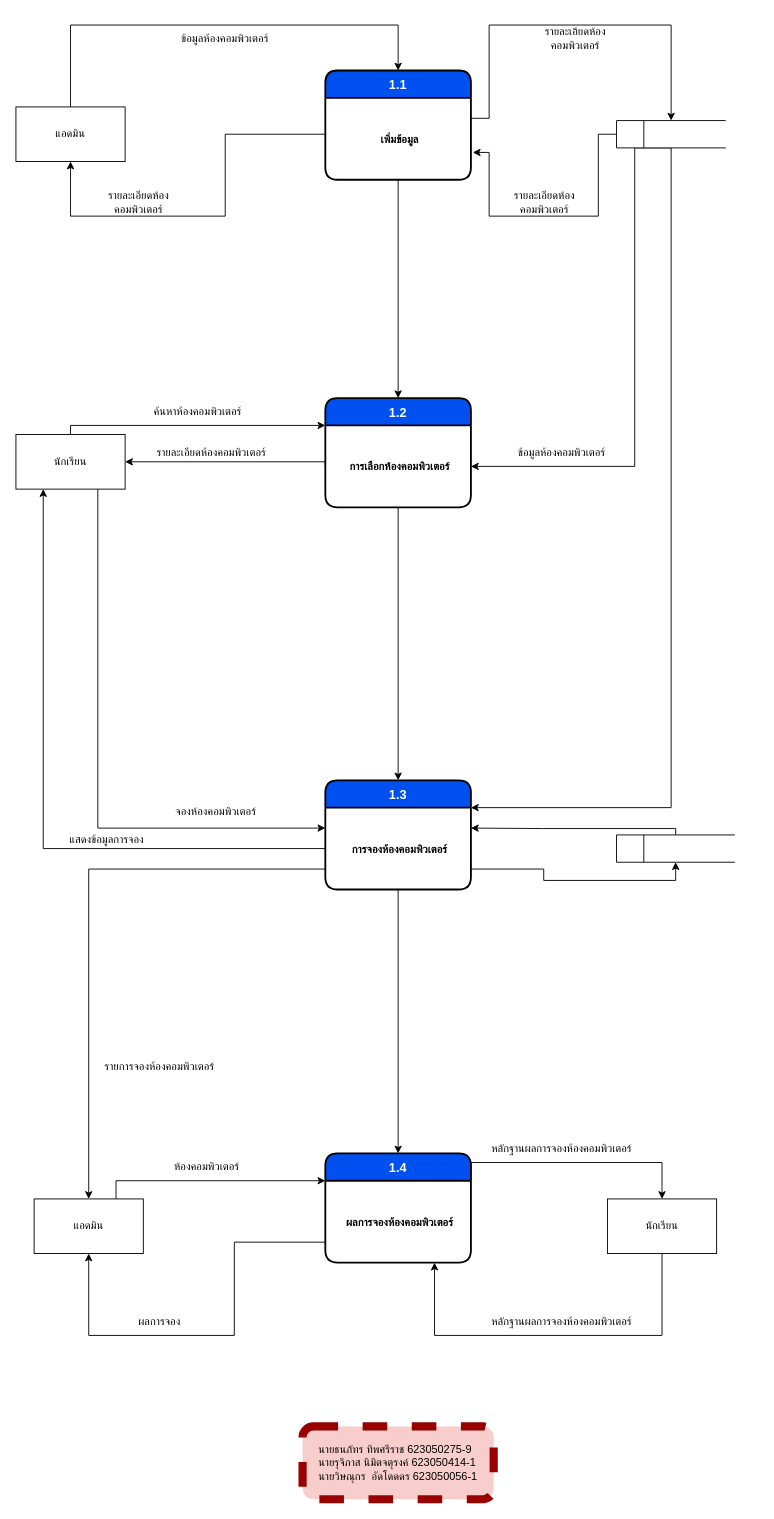
Image size: 774x1519. Some labels were removed from this diagram. Each missing label, with the centre of its shape:
"D1 ข้อมูลห้องคอมพิวเตอร์" belongs at [671,134].
"D2 ห้องคอมพิวเตอร์ที่เลือกจอง" belongs at [675,848].
